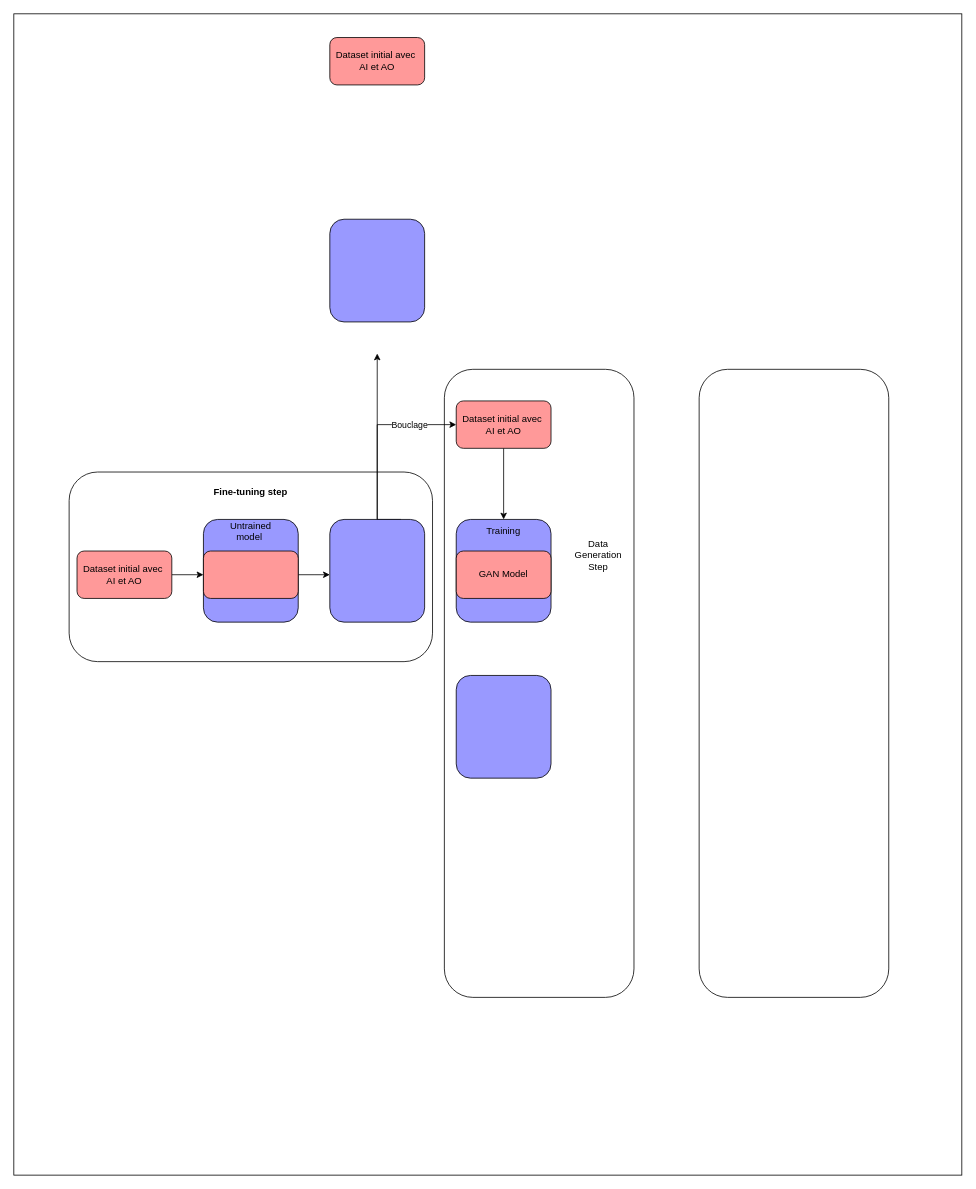
Some shapes in this 976 by 1189 pixel diagram are drawn without their labels. Here are the shapes that lost their labels. From the top down, the centre of each, then its label:
the point at 250,574: Litterature model
the point at 377,570: Trained model
